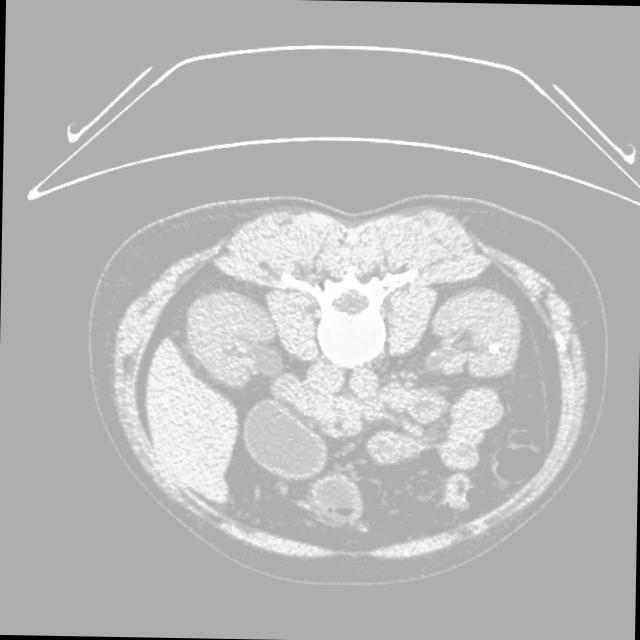STONE: (238, 357, 568, 532)
